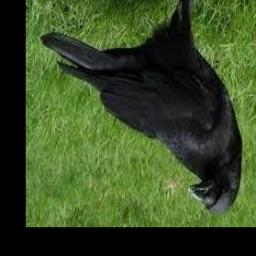Crow: (40, 0, 243, 213)
